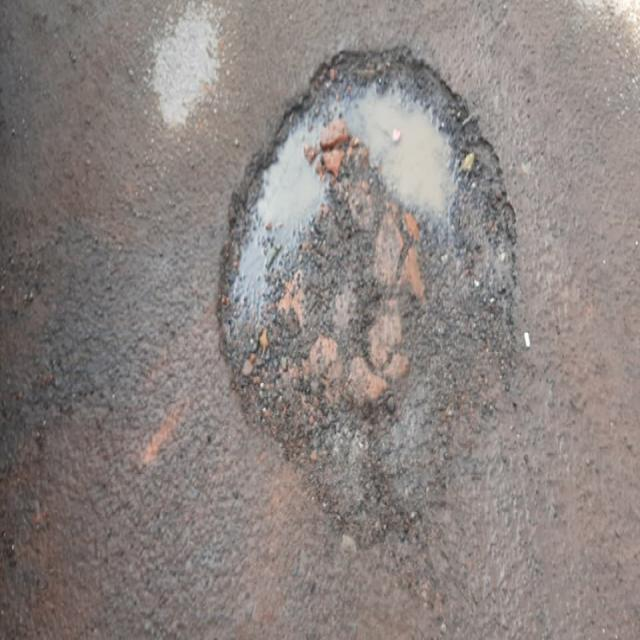Pothole: (220, 50, 515, 542)
